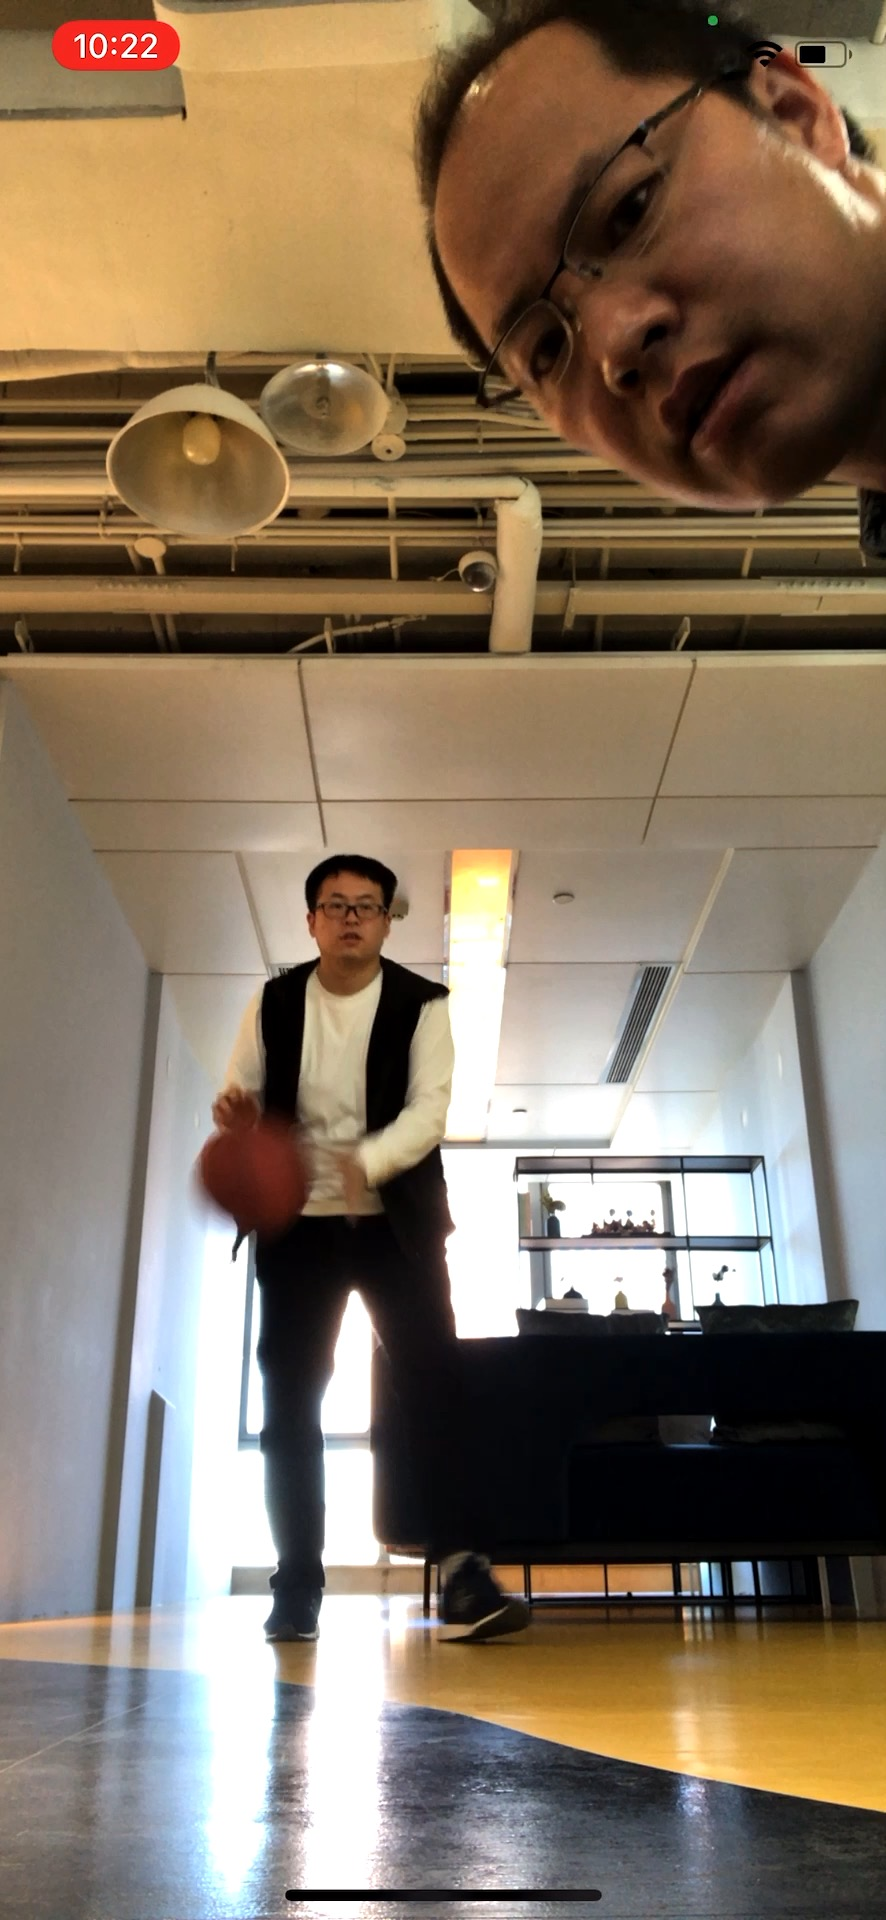ball: (198, 1120, 316, 1236)
